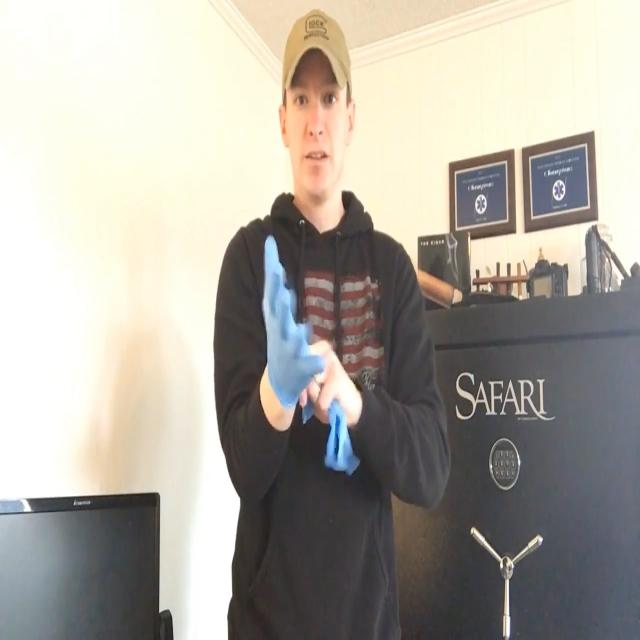Gloves: (242, 215, 324, 416)
